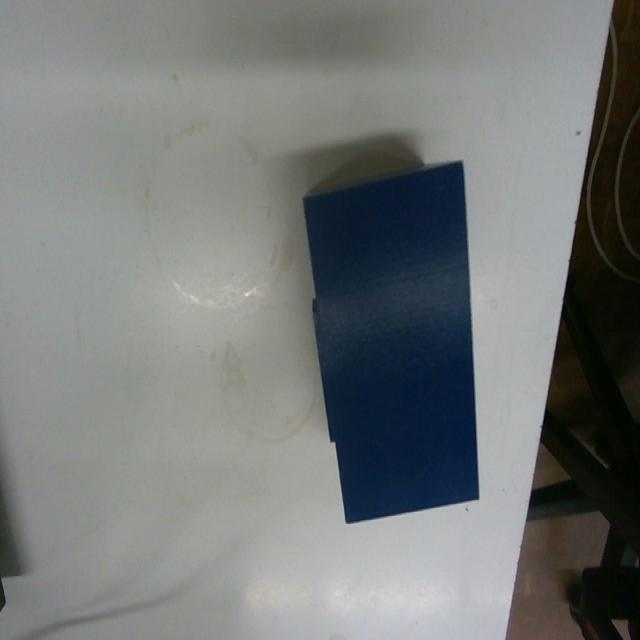Blue Cuboid: (300, 156, 481, 525)
